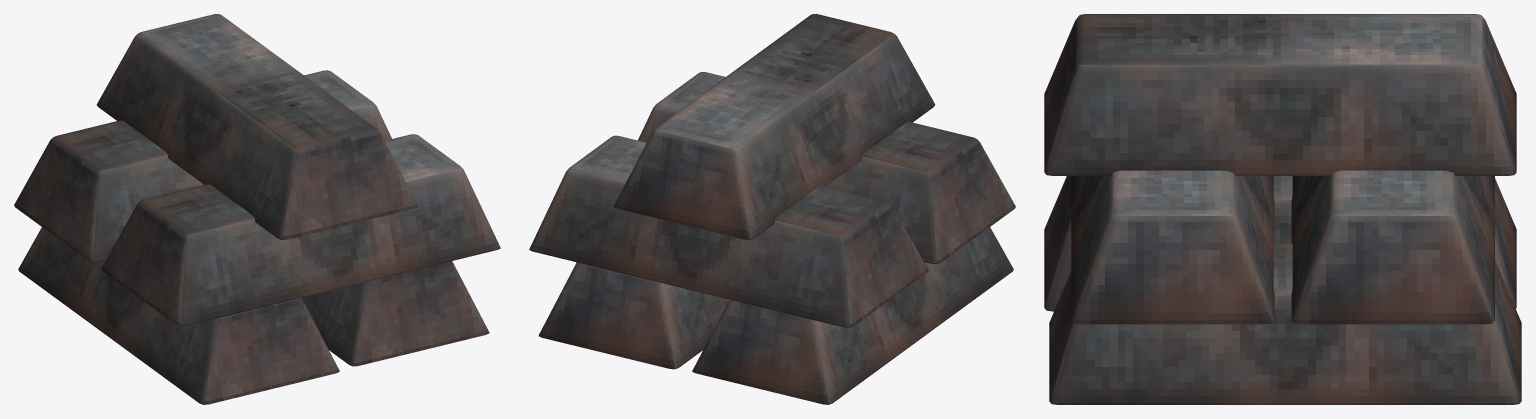
Rendered from LegionScrapSteelIngot5stack.fbx.
3 renders of one model, left to right at view 1: azimuth 30°, elevation 25°; view 2: azimuth 150°, elevation 25°; view 3: azimuth 270°, elevation 25°, orthographic. The views are drawn at different scales.
Parts seen in each view (by area): view 1: MilIngot5stack; view 2: MilIngot5stack; view 3: MilIngot5stack.
Part boxes in pixels (x1,y1,x2,y2): MilIngot5stack: (14,14,500,404); MilIngot5stack: (529,14,1015,404); MilIngot5stack: (1044,14,1521,404).
Bounding box in the file's own units: 57.03 × 37.21 × 57.63.
